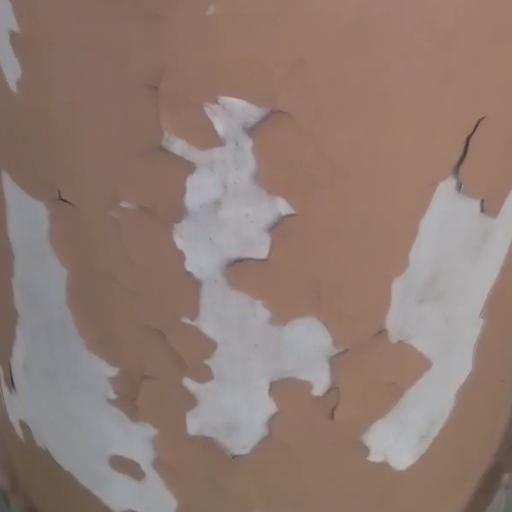peeling: (134, 69, 346, 477), (0, 132, 192, 511), (356, 138, 512, 472), (0, 0, 43, 105)
